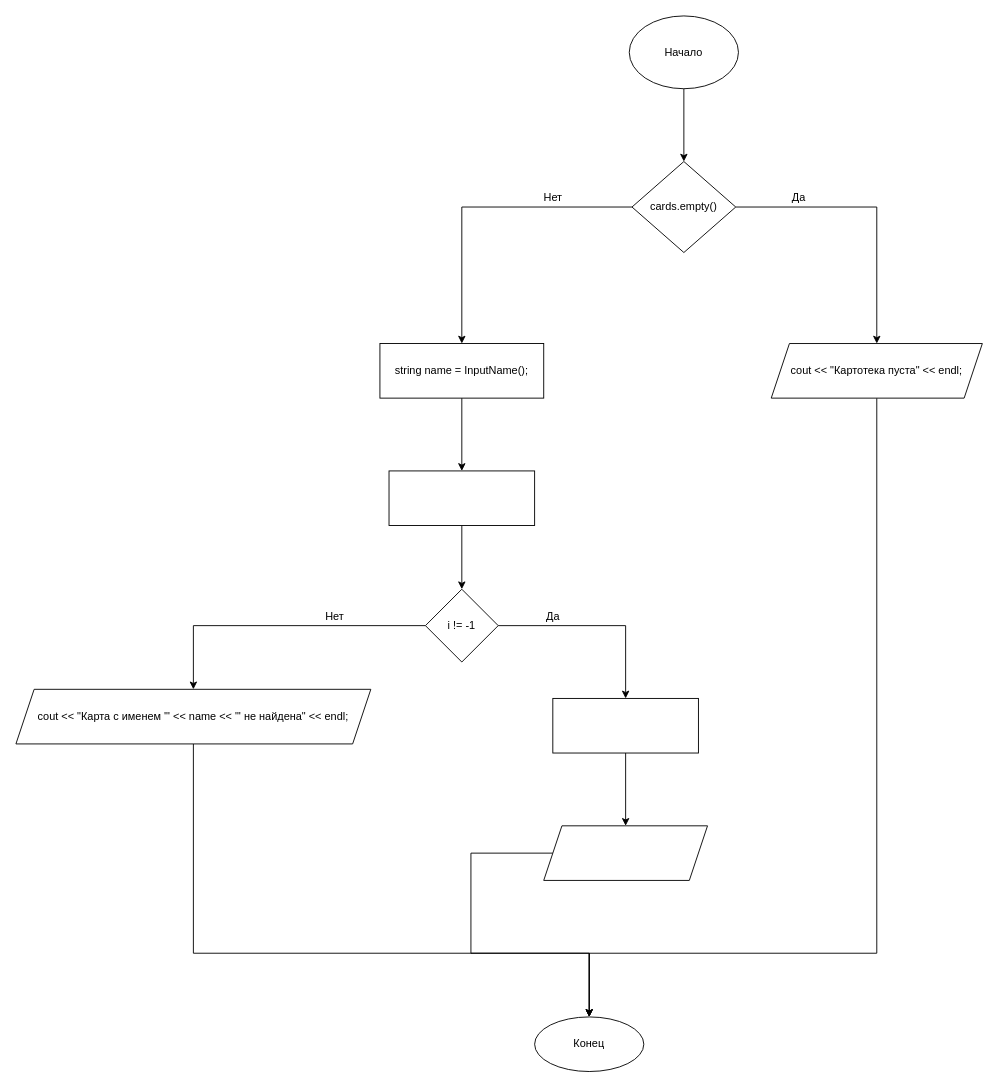
This 998x1087 diagram has some shape labels left out. Here are the shapes that lost their labels. From the top down, the centre of each, then its label:
At pixel 461 498: "int i = FindCard(name);".
At pixel 625 725: "Card card = cards.at(i);".
At pixel 625 852: "card.ShowNotification();".
